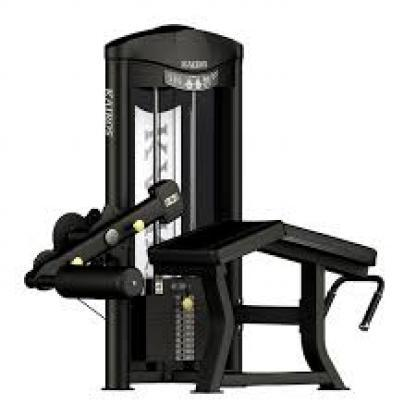reg curl machine: (24, 23, 387, 396)
